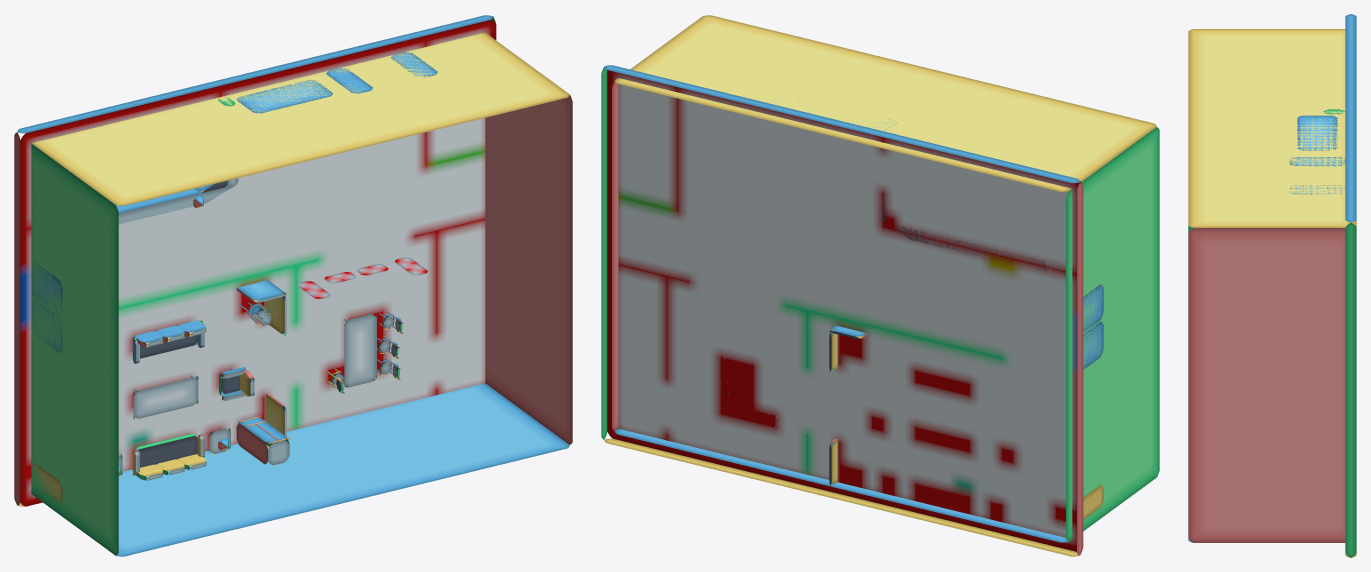
The model's file is iwatodai_dorm.obj.
The picture shows the model from 3 angles, left to right: view 1: azimuth 30°, elevation 25°; view 2: azimuth 150°, elevation 25°; view 3: azimuth 270°, elevation 25°; orthographic projection. The views are drawn at different scales.
Parts seen in each view (by area): view 1: floor_Mesh, wall_north_Mesh, wall_south_Mesh, wall_west_Mesh, wall_east_Mesh, mesh.022_Mesh, mesh.009_Mesh, mesh.010_Mesh, billboard_Mesh, mesh.001_Mesh, mesh.015_Mesh, front_door_1_Mesh (+1 smaller); view 2: floor_Mesh, wall_north_Mesh, wall_west_Mesh, wall_south_Mesh, wall_east_Mesh, mesh.001_Mesh, front_door_2_Mesh, front_door_1_Mesh; view 3: wall_east_Mesh, wall_north_Mesh, floor_Mesh, billboard_Mesh, door_1_Mesh, door_2_Mesh.
Boxes of the visible parts, x1,y1,x2,y2 form: floor_Mesh: (14,15,496,506); wall_north_Mesh: (32,32,569,205); wall_south_Mesh: (116,383,569,556); wall_west_Mesh: (31,143,118,555); wall_east_Mesh: (485,95,572,444); mesh.022_Mesh: (344,314,376,387); mesh.009_Mesh: (133,376,198,419); mesh.010_Mesh: (236,417,289,465); billboard_Mesh: (236,80,332,113); mesh.001_Mesh: (116,183,237,224); mesh.015_Mesh: (134,434,197,467); front_door_1_Mesh: (31,262,62,314); floor_Mesh: (601,65,1083,556); wall_north_Mesh: (615,15,1156,191); wall_west_Mesh: (1066,127,1159,541); wall_south_Mesh: (615,428,1068,542); wall_east_Mesh: (612,81,618,430); mesh.001_Mesh: (884,222,1065,272); front_door_2_Mesh: (1083,321,1103,369); front_door_1_Mesh: (1083,284,1103,332); wall_east_Mesh: (1188,228,1345,542); wall_north_Mesh: (1188,29,1356,227); floor_Mesh: (1345,14,1356,557); billboard_Mesh: (1297,115,1337,150); door_1_Mesh: (1289,157,1345,166); door_2_Mesh: (1289,185,1345,194).
Size of the model in its own units: 2.75 by 2.06 by 0.9375.
Materials: 1 (1 with a texture image).
